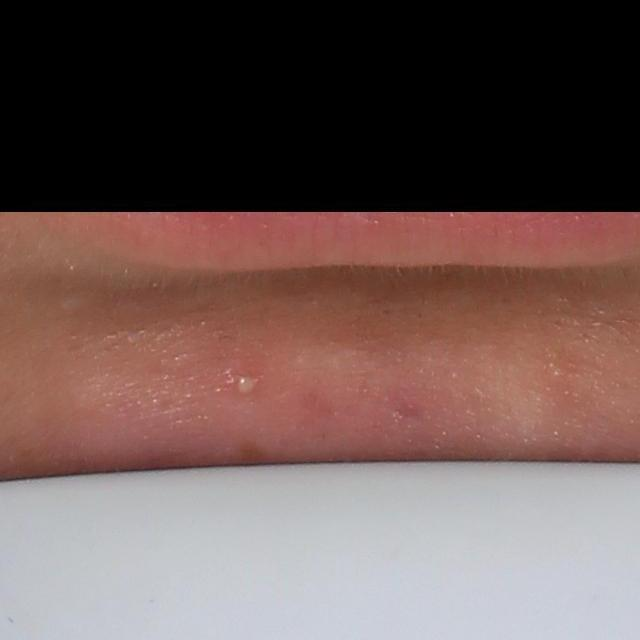hypertrophic_scar: (53, 293, 84, 314)
pustule: (233, 374, 264, 401)
